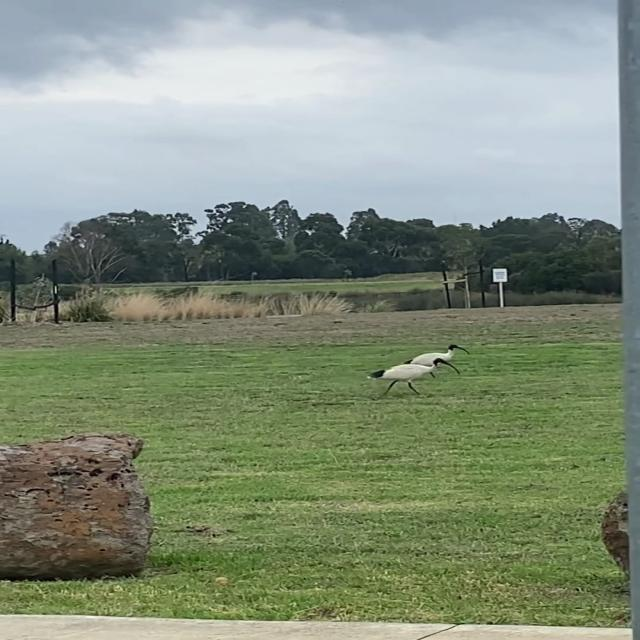Birds-Ibis: (366, 354, 462, 402), (404, 340, 478, 367)
